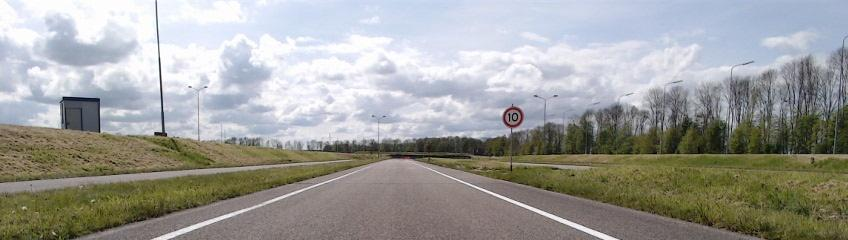Speed-limit-10km-h-: (503, 107, 524, 128)
